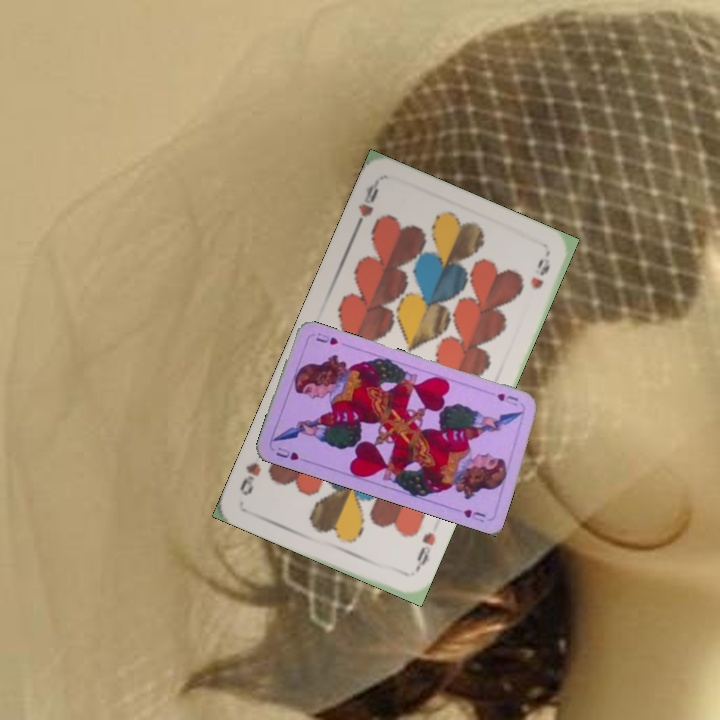H9: (349, 178, 382, 235), (406, 528, 439, 575)
HU: (272, 443, 301, 463), (493, 389, 521, 404)
